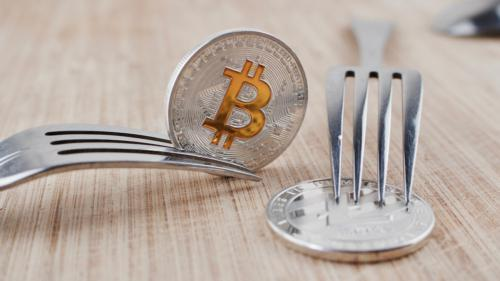Fork: (325, 16, 423, 209), (0, 123, 263, 193)
